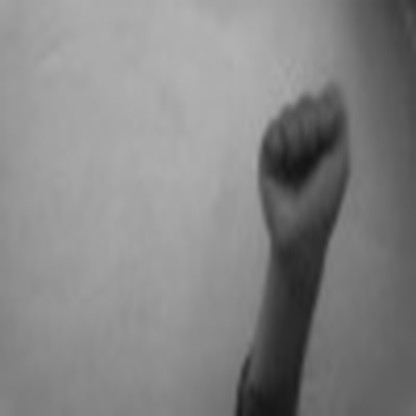a: (253, 71, 359, 258)
